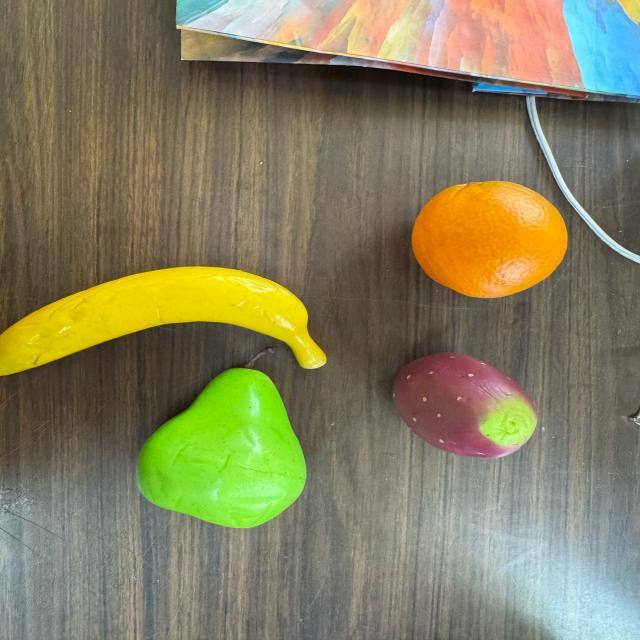banana: (0, 265, 327, 377)
orange: (409, 180, 570, 298)
pear: (134, 347, 310, 528)
tuna: (389, 352, 539, 458)
